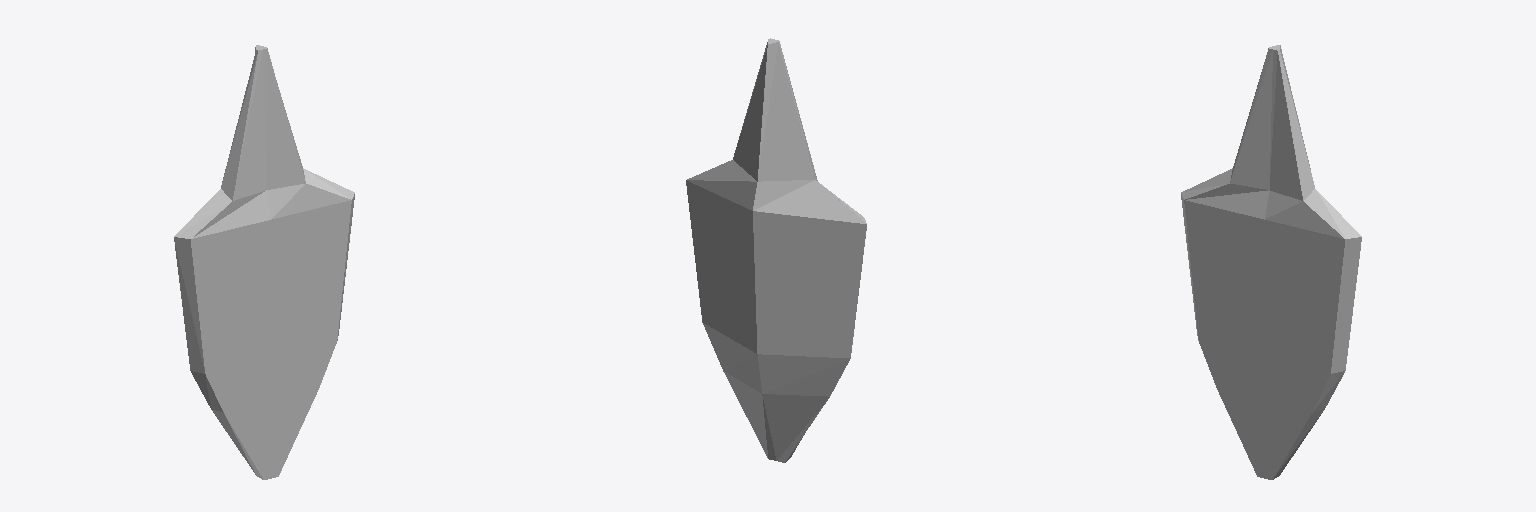
Rendered from decorational_spike_small.obj.
3 views of the same model, side by side, from view 1: azimuth 30°, elevation 25°; view 2: azimuth 150°, elevation 25°; view 3: azimuth 330°, elevation 25° (orthographic).
Parts seen in each view (by area): view 1: cuboid; view 2: cuboid; view 3: cuboid.
Part boxes in pixels (bbox=[...]): cuboid: bbox=[174, 45, 354, 479]; cuboid: bbox=[686, 38, 866, 462]; cuboid: bbox=[1181, 45, 1361, 479].
Size of the model in its own units: 1.38 by 3.06 by 0.4.